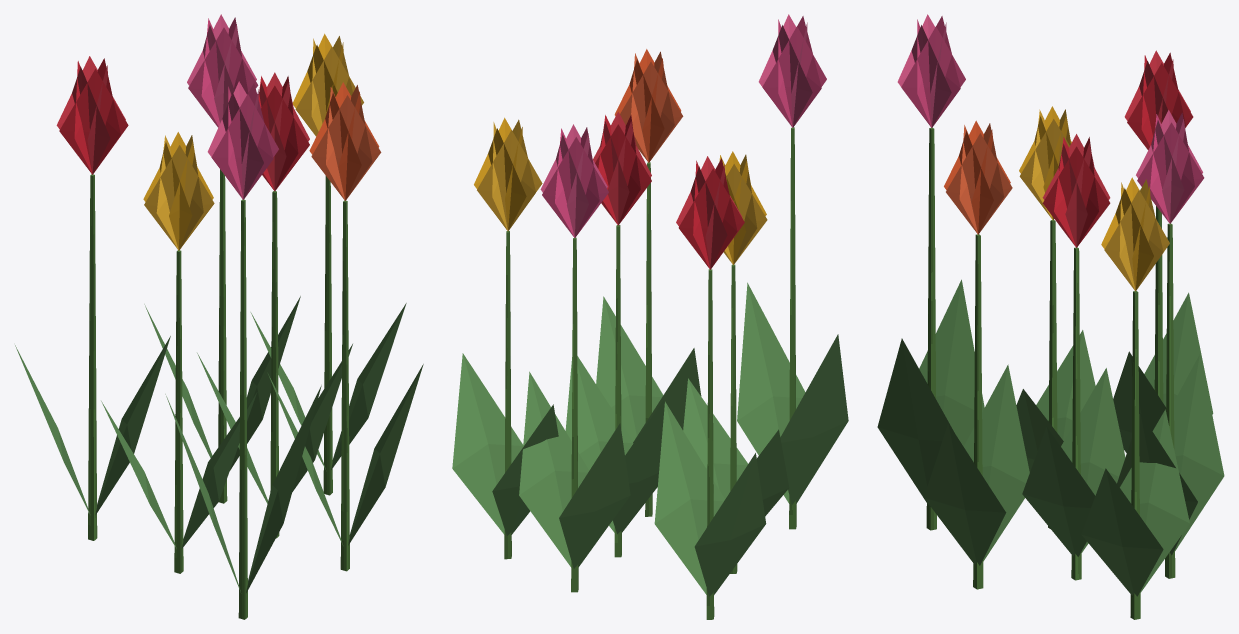
File: f_flower_tulip.glb
3 views of the same model, side by side, from view 1: azimuth 30°, elevation 25°; view 2: azimuth 150°, elevation 25°; view 3: azimuth 270°, elevation 25° (orthographic). The views are drawn at different scales.
Visible parts, largest first — view 1: f_flower_tulip_mesh; view 2: f_flower_tulip_mesh; view 3: f_flower_tulip_mesh.
Boxes of the visible parts, left/top/right/bottom form: f_flower_tulip_mesh: left=15, top=14, right=423, bottom=619; f_flower_tulip_mesh: left=452, top=14, right=848, bottom=619; f_flower_tulip_mesh: left=877, top=14, right=1224, bottom=619.
Size of the model in its own units: 0.3883 by 0.5632 by 0.3483.
1 material, 1 textured.
